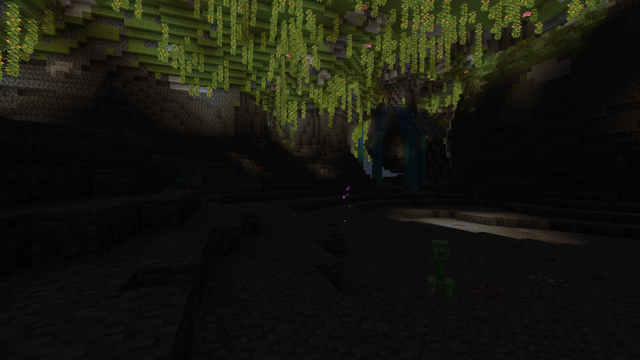creepers: (425, 236, 453, 296)
zombies: (236, 162, 240, 177)
